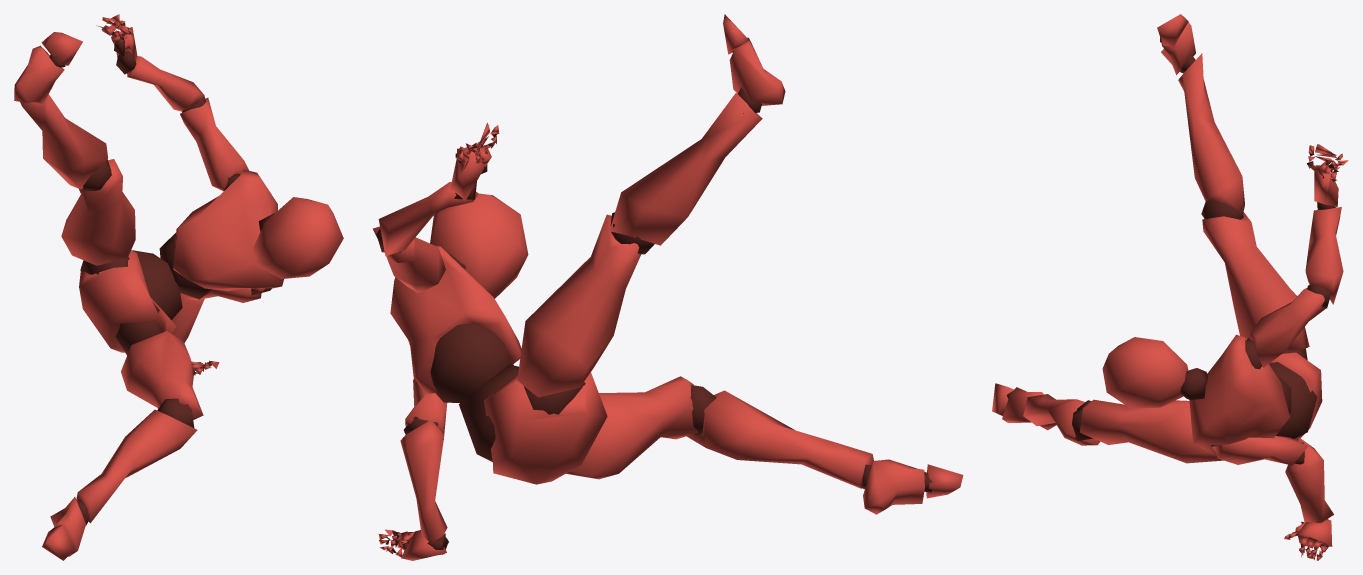
The picture shows the model from 3 angles, left to right: view 1: azimuth 30°, elevation 25°; view 2: azimuth 150°, elevation 25°; view 3: azimuth 270°, elevation 25°; orthographic projection. The views are drawn at different scales.
Parts seen in each view (by area): view 1: Beta_Surface; view 2: Beta_Surface; view 3: Beta_Surface.
Part boxes in pixels (<box>): Beta_Surface: <box>14,14,343,560</box>; Beta_Surface: <box>373,14,963,560</box>; Beta_Surface: <box>992,14,1348,560</box>.
Bounding box in the file's own units: 12.22 × 14.26 × 10.39.
